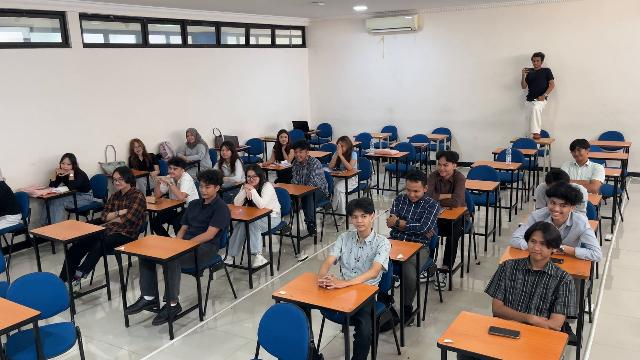senang: (529, 236, 550, 260), (548, 198, 568, 218), (406, 181, 422, 202), (351, 212, 369, 230), (436, 158, 450, 177), (198, 182, 212, 198), (246, 170, 259, 185), (570, 148, 585, 161), (113, 173, 125, 189), (61, 157, 72, 171), (294, 149, 305, 161), (168, 166, 179, 177), (133, 142, 143, 154), (221, 146, 231, 158), (278, 134, 288, 144), (186, 132, 195, 142)
